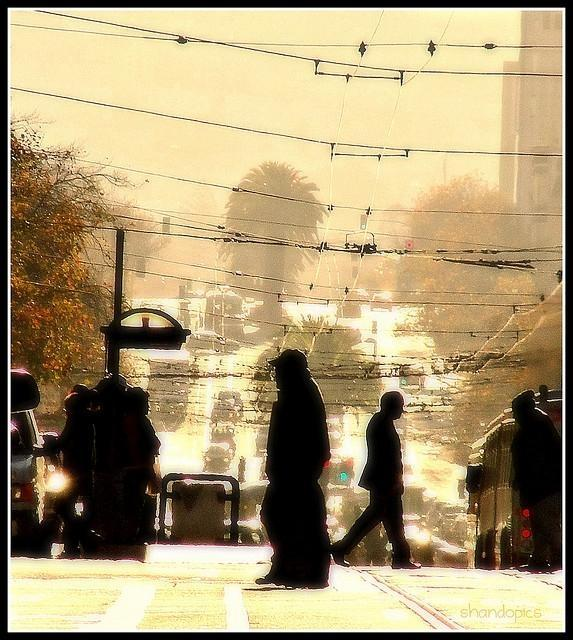truck: (455, 383, 568, 571)
